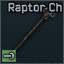AR-15 Radian Weapons Raptor charging handle Grey: (0, 0, 64, 64)
